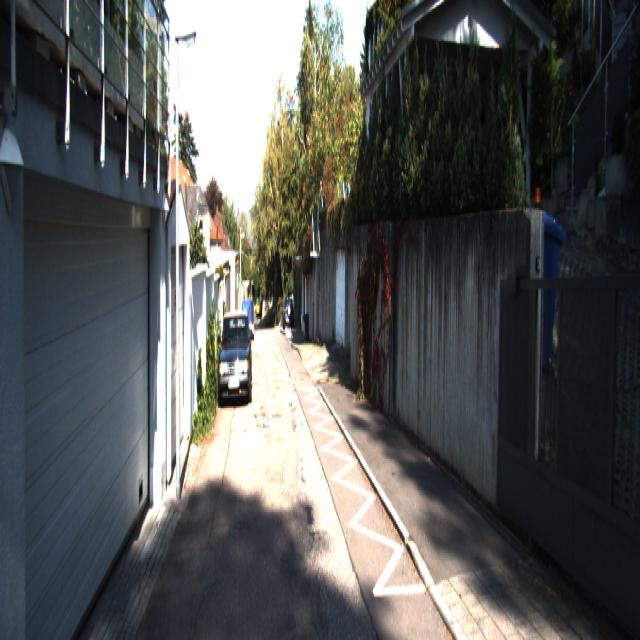Car: (217, 308, 252, 409), (242, 299, 254, 344)
